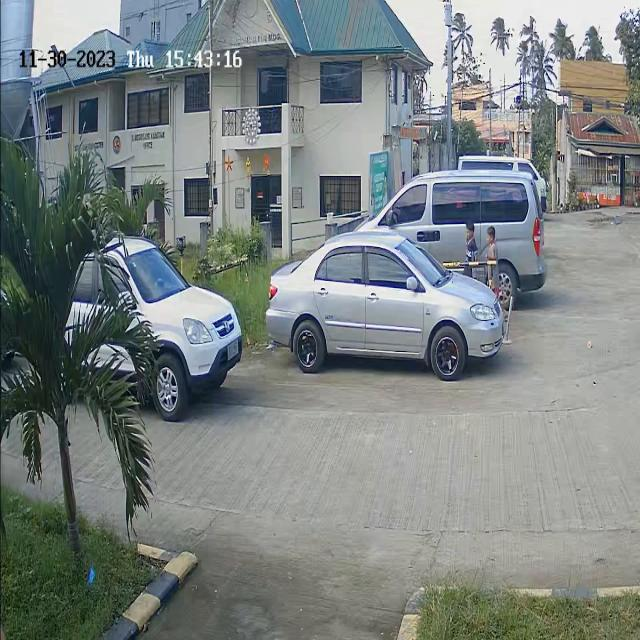person: (486, 227, 501, 300), (461, 222, 479, 279)
